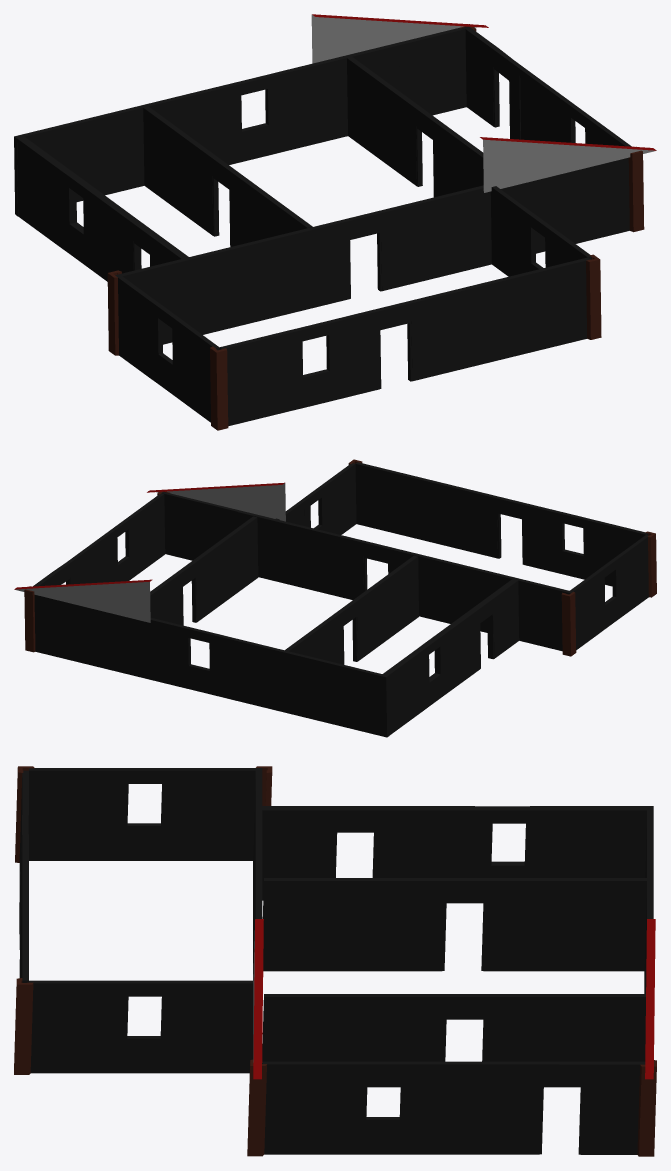
Rendered from RdcMaison_01.fbx.
The picture shows the model from 3 angles, top to bottom: view 1: azimuth 30°, elevation 25°; view 2: azimuth 150°, elevation 25°; view 3: azimuth 270°, elevation 25°; orthographic projection. The views are drawn at different scales.
Parts seen in each view (by area): view 1: RdcMaison_01; view 2: RdcMaison_01; view 3: RdcMaison_01.
Part boxes in pixels (box(x1,y1,x2,y2)): RdcMaison_01: box(14, 14, 656, 430); RdcMaison_01: box(14, 459, 656, 737); RdcMaison_01: box(14, 766, 656, 1156).
Bounding box in the file's own units: 2396 × 533 × 2110.
